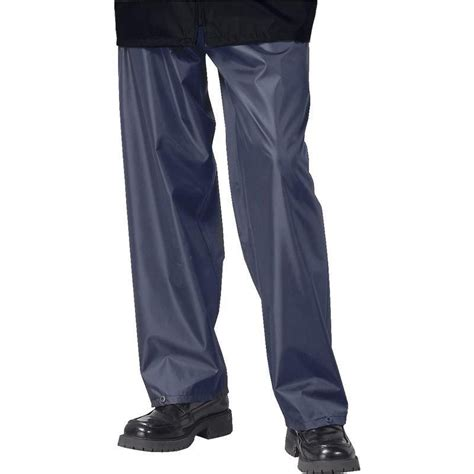nylon: (116, 45, 349, 432)
